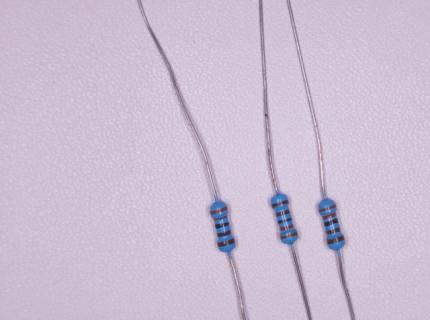Black band: (324, 218, 338, 227), (277, 217, 292, 224), (215, 223, 229, 229)
Brown band: (328, 235, 344, 245), (217, 239, 234, 248), (271, 200, 288, 207), (327, 227, 340, 235), (218, 230, 231, 237), (277, 209, 289, 216)
Orange band: (281, 231, 298, 239), (210, 207, 227, 215), (320, 204, 336, 212), (323, 211, 336, 219), (280, 224, 293, 231), (214, 215, 227, 221)
